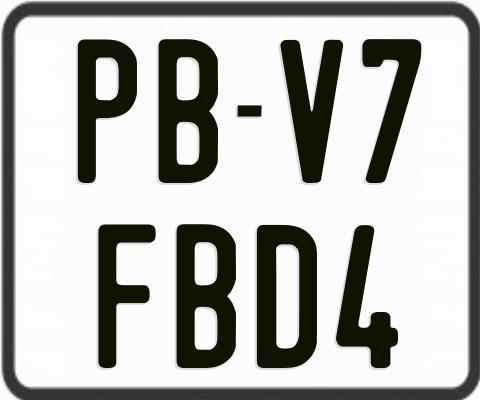4: (336, 223, 399, 367)
7: (360, 39, 425, 189)
B: (156, 37, 218, 183), (177, 222, 237, 369)
D: (254, 225, 320, 370)
F: (95, 222, 154, 368)
P: (76, 38, 138, 187)
V: (277, 38, 340, 181)
